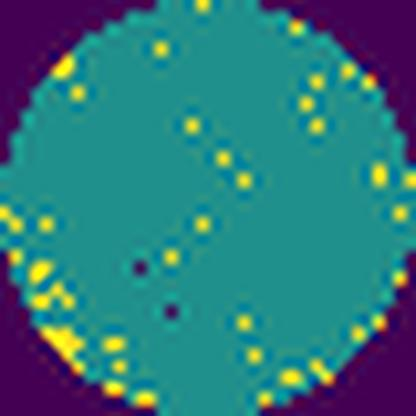Edge-Loc: (40, 328, 92, 374)
